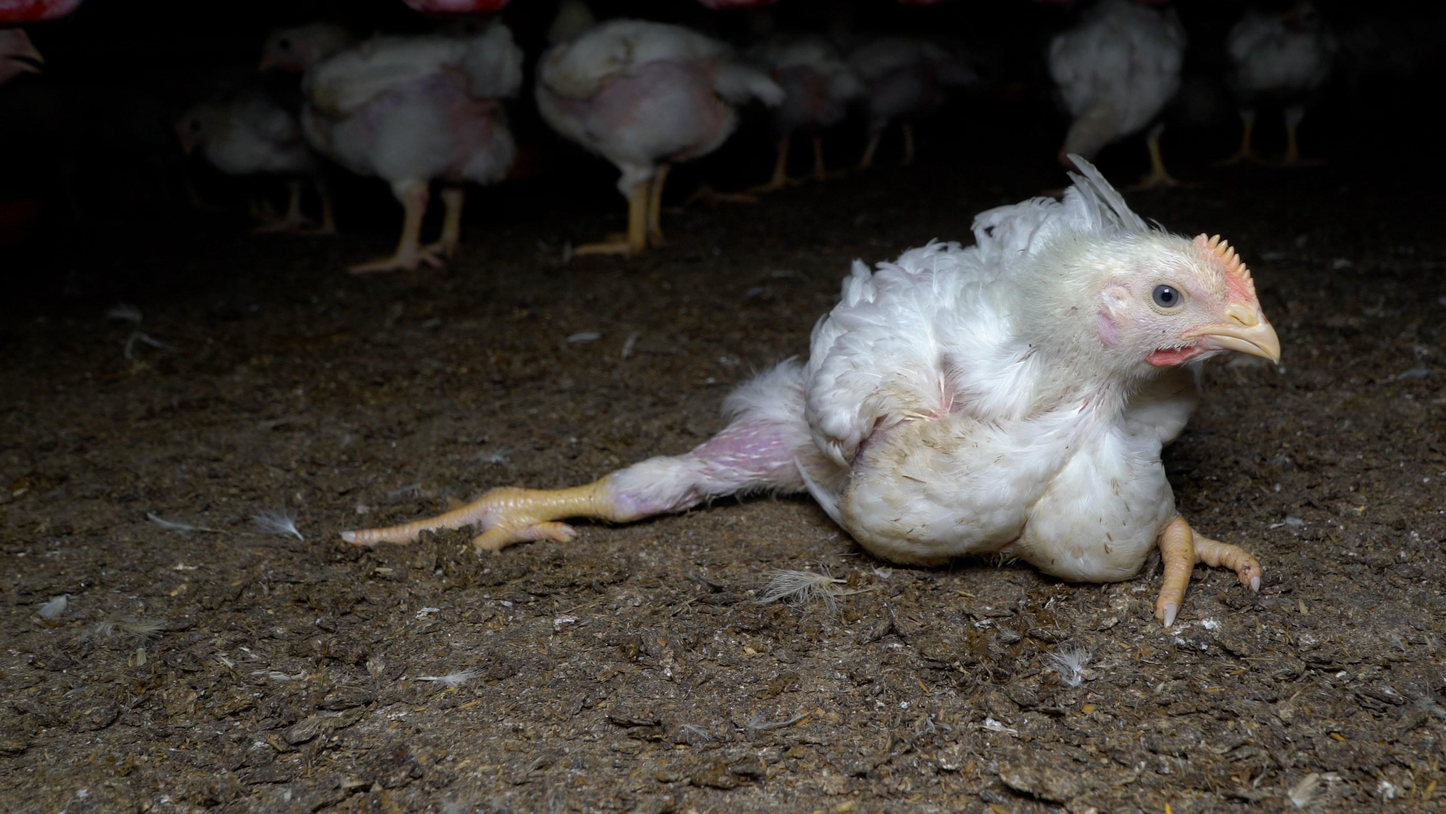AbNormal: (351, 192, 1321, 632)
